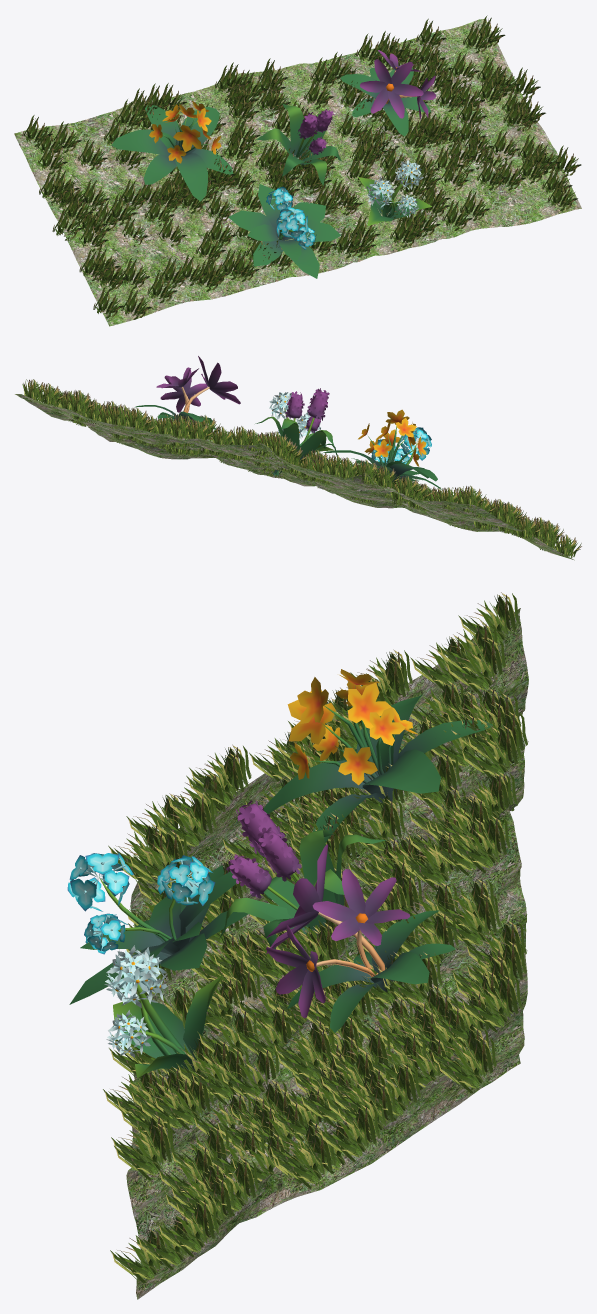
File: garden-bed3.glb
The picture shows the model from 3 angles, top to bottom: view 1: azimuth 30°, elevation 25°; view 2: azimuth 150°, elevation 25°; view 3: azimuth 270°, elevation 25°; orthographic projection. The views are drawn at different scales.
Visible parts, largest first — view 1: ground, grass_varient_2_grass2_0.001, grass_varient_2_grass2_0.080, flower0, flower1, flower4, flower2, flower3; view 2: grass_varient_2_grass2_0.080, ground, grass_varient_2_grass2_0.001, flower0, flower4, flower2, flower1, flower3; view 3: grass_varient_2_grass2_0.080, grass_varient_2_grass2_0.001, ground, flower0, flower4, flower1, flower2, flower3.
Boxes of the visible parts, box(x1,y1,x2,y2) form: ground: box(14, 19, 581, 326); grass_varient_2_grass2_0.001: box(63, 93, 581, 319); grass_varient_2_grass2_0.080: box(22, 15, 540, 240); flower0: box(111, 101, 233, 201); flower1: box(228, 184, 341, 278); flower4: box(340, 50, 435, 136); flower2: box(256, 103, 341, 185); flower3: box(358, 159, 431, 226); grass_varient_2_grass2_0.080: box(22, 379, 541, 539); ground: box(15, 394, 574, 560); grass_varient_2_grass2_0.001: box(93, 405, 581, 557); flower0: box(322, 409, 441, 489); flower4: box(134, 356, 240, 431); flower2: box(255, 388, 337, 463); flower1: box(340, 427, 431, 481); flower3: box(269, 392, 334, 476); grass_varient_2_grass2_0.080: box(264, 592, 528, 1183); grass_varient_2_grass2_0.001: box(103, 687, 364, 1283); ground: box(126, 608, 528, 1299); flower0: box(263, 669, 492, 842); flower4: box(266, 844, 455, 1032); flower1: box(67, 852, 248, 1004); flower2: box(219, 800, 386, 949); flower3: box(104, 945, 222, 1078).
Size of what is drawn, in the model's own units: 154 by 46.88 by 63.2.
Materials: 3 (3 with a texture image).
